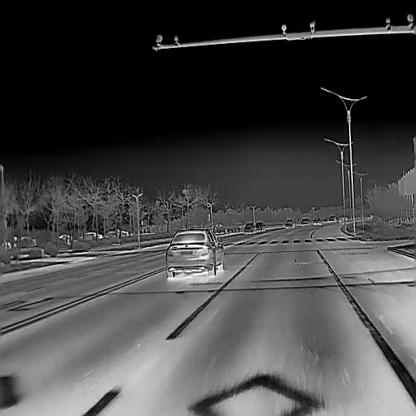car: (164, 227, 224, 277), (76, 231, 102, 240), (58, 233, 72, 245), (243, 221, 256, 233), (115, 229, 129, 236), (256, 220, 264, 231), (106, 231, 118, 237), (284, 219, 294, 226), (300, 218, 310, 225), (314, 217, 320, 224), (329, 215, 335, 221), (324, 216, 328, 221)
